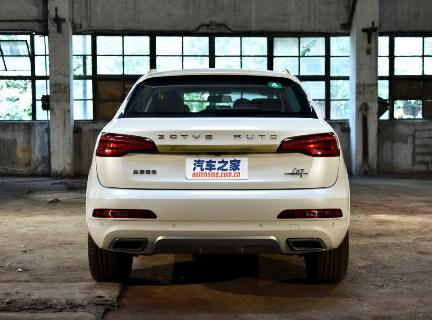众泰-SR7: (80, 63, 358, 291)
